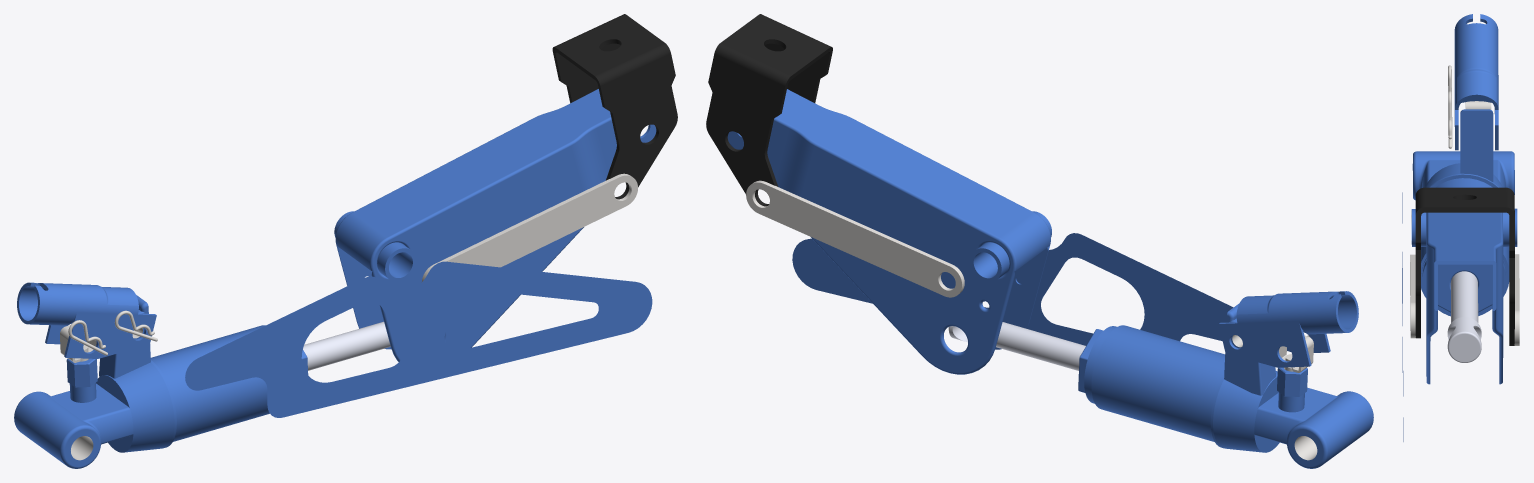
Rendered from Update05.glb.
3 views of the same model, side by side, from view 1: azimuth 30°, elevation 25°; view 2: azimuth 150°, elevation 25°; view 3: azimuth 270°, elevation 25° (orthographic). The views are drawn at different scales.
Parts seen in each view (by area): view 1: Update05; view 2: Update05; view 3: Update05.
Boxes of the visible parts, x1=… form: Update05: x1=14, y1=14, x2=677, y2=468; Update05: x1=706, y1=14, x2=1373, y2=468; Update05: x1=1402, y1=14, x2=1519, y2=441.
Bounding box in the file's own units: 0.415 × 0.1871 × 0.0646.
